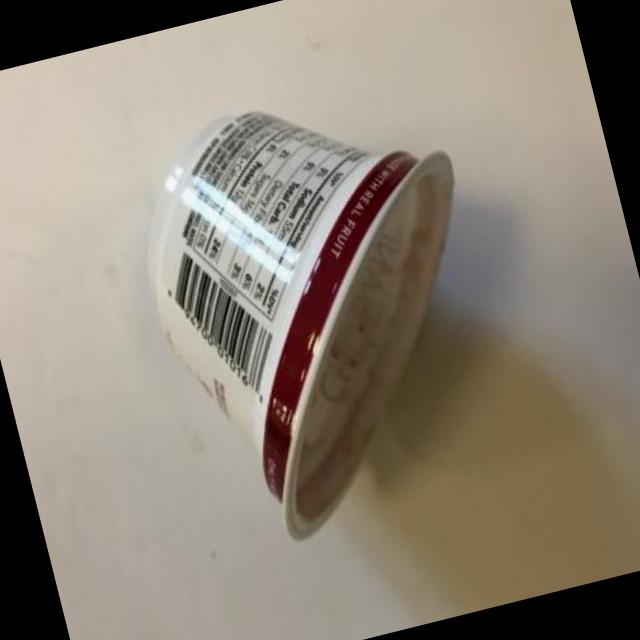hop_nhua: (147, 110, 455, 544)
